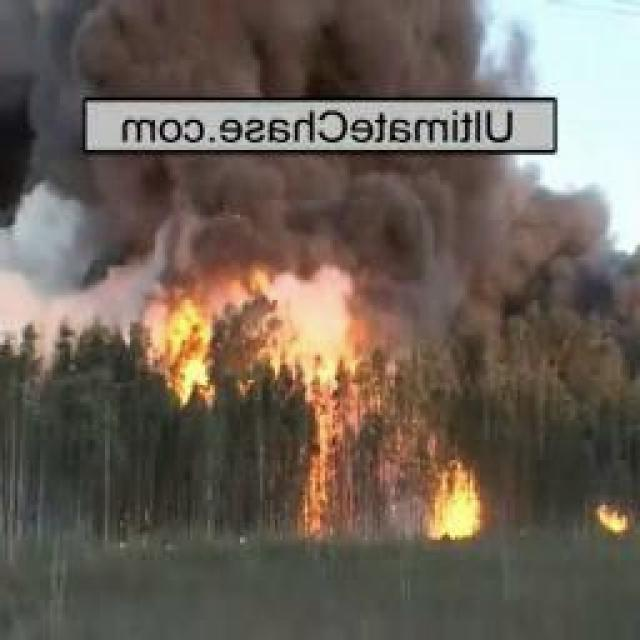Fire: (287, 368, 354, 544), (416, 457, 488, 540), (157, 304, 216, 399), (590, 498, 630, 531)
